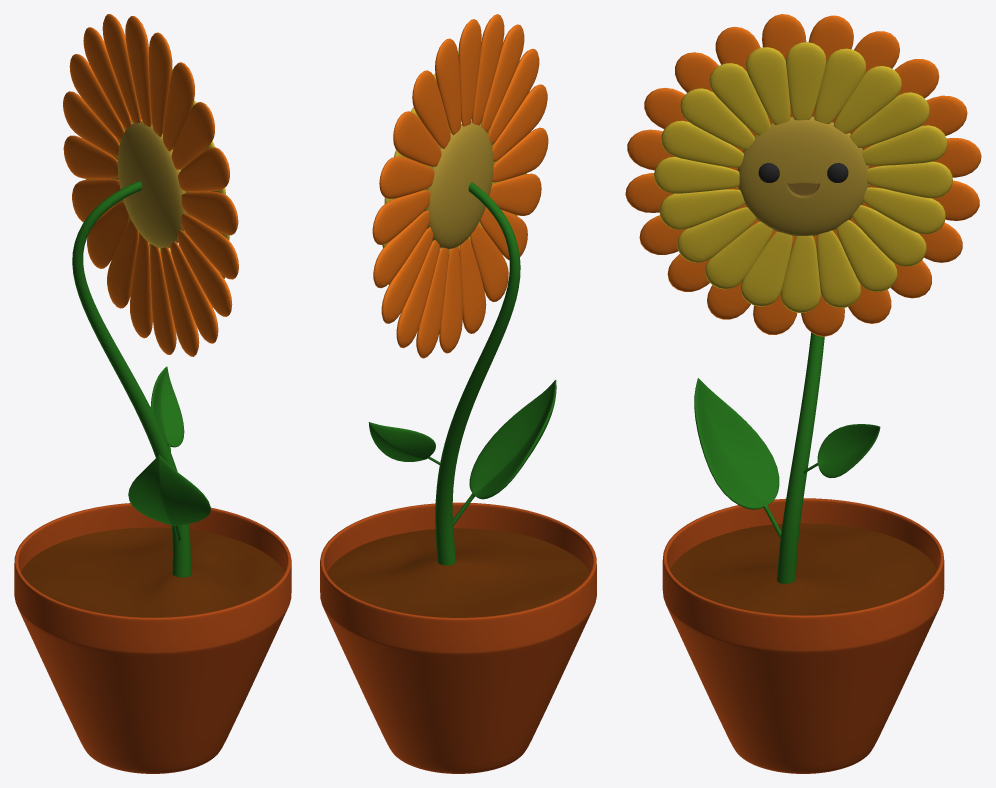
File: Flower.fbx
3 renders of one model, left to right at view 1: azimuth 30°, elevation 25°; view 2: azimuth 150°, elevation 25°; view 3: azimuth 270°, elevation 25°, orthographic.
Parts seen in each view (by area): view 1: Flower001; view 2: Flower001; view 3: Flower001.
Part boxes in pixels (x1=…): Flower001: x1=14, y1=14, x2=291, y2=773; Flower001: x1=320, y1=14, x2=596, y2=773; Flower001: x1=625, y1=14, x2=981, y2=773.
Size of the model in its own units: 8.72 by 25.03 by 11.04.
